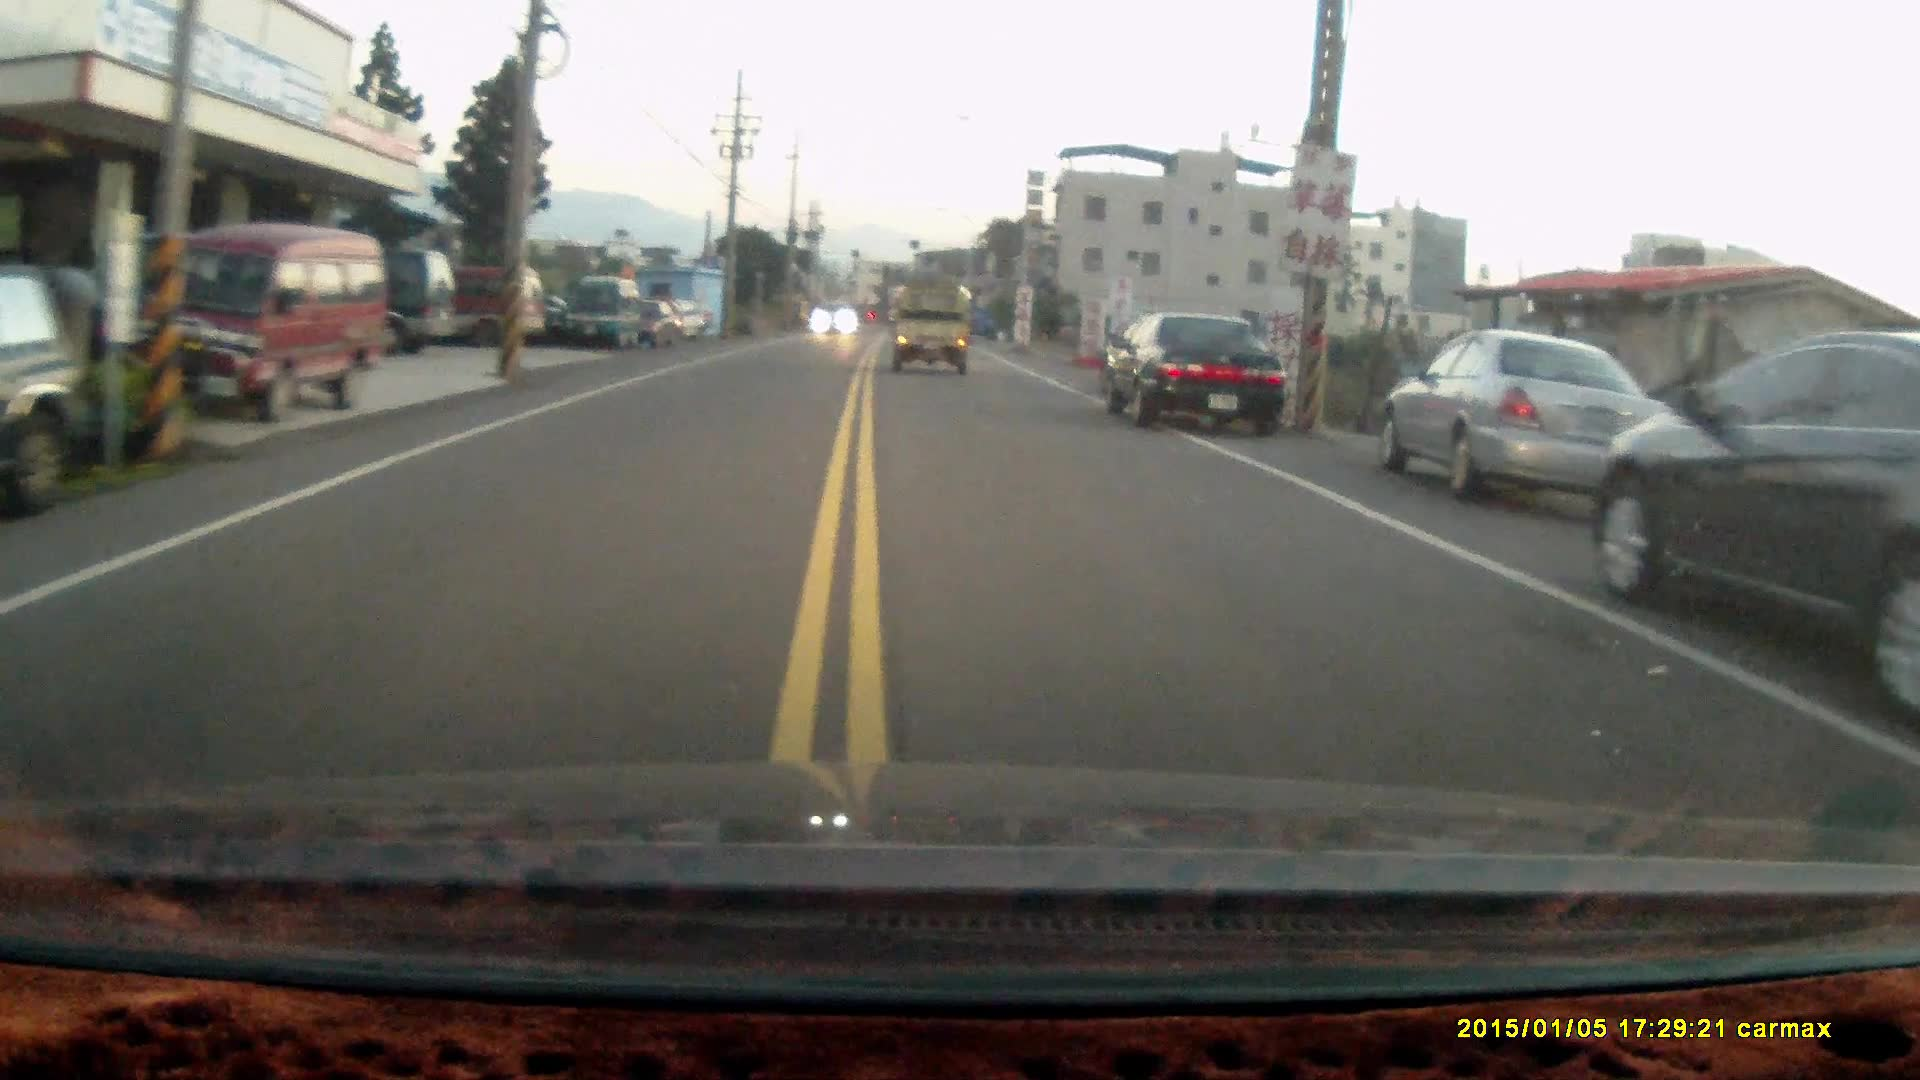vehicle: (1588, 338, 1920, 713), (1382, 335, 1677, 512), (108, 233, 381, 425), (1096, 311, 1287, 440), (1, 264, 91, 522), (257, 247, 465, 357), (381, 269, 549, 351), (887, 286, 971, 382), (564, 280, 644, 357)
